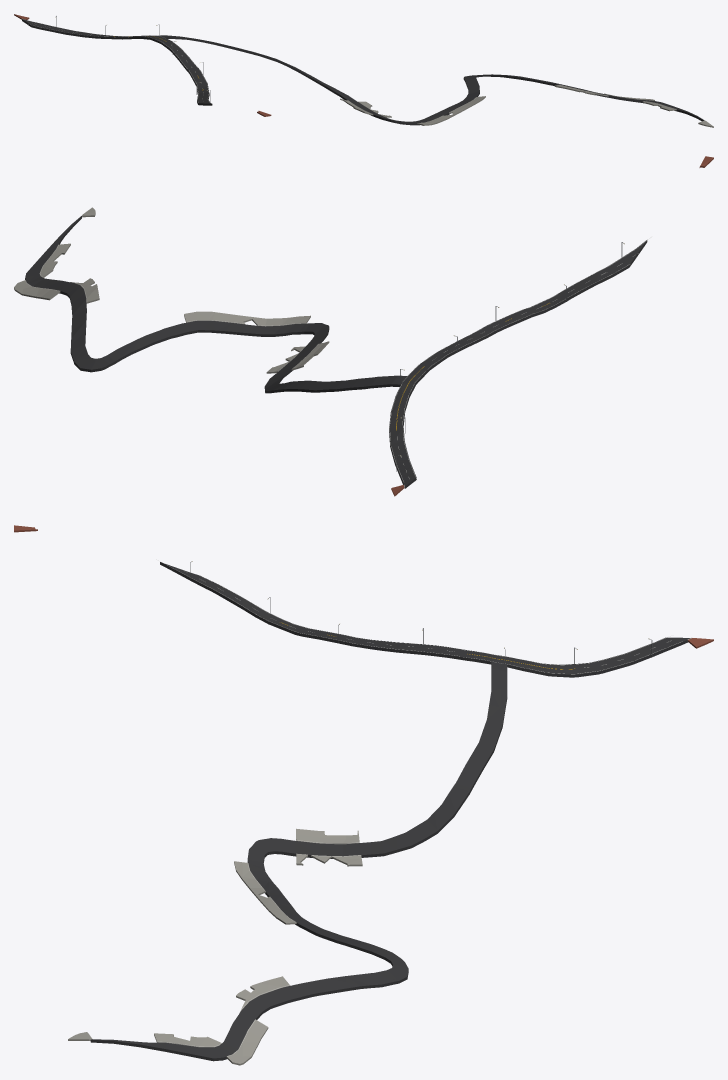
3 renders of one model, top to bottom at view 1: azimuth 30°, elevation 25°; view 2: azimuth 150°, elevation 25°; view 3: azimuth 270°, elevation 25°, orthographic. The views are drawn at different scales.
Bounding box in the file's own units: 295 × 94.68 × 272.
